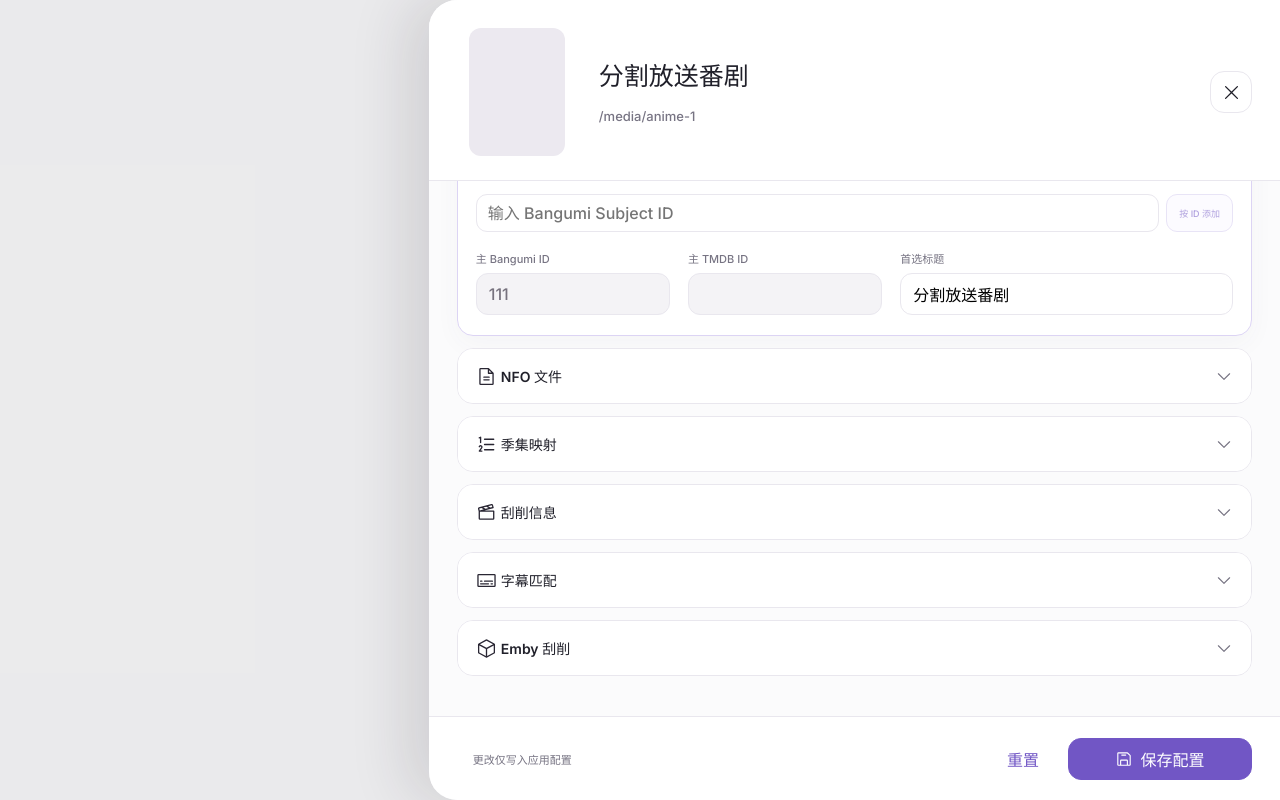
it: ScrapeDrawer segmented mapping › configures and runs the per-work daily refresh
(page scrolled)
Click the text "刮削信息". click: click(529, 512)
box: [501,502,557,522]
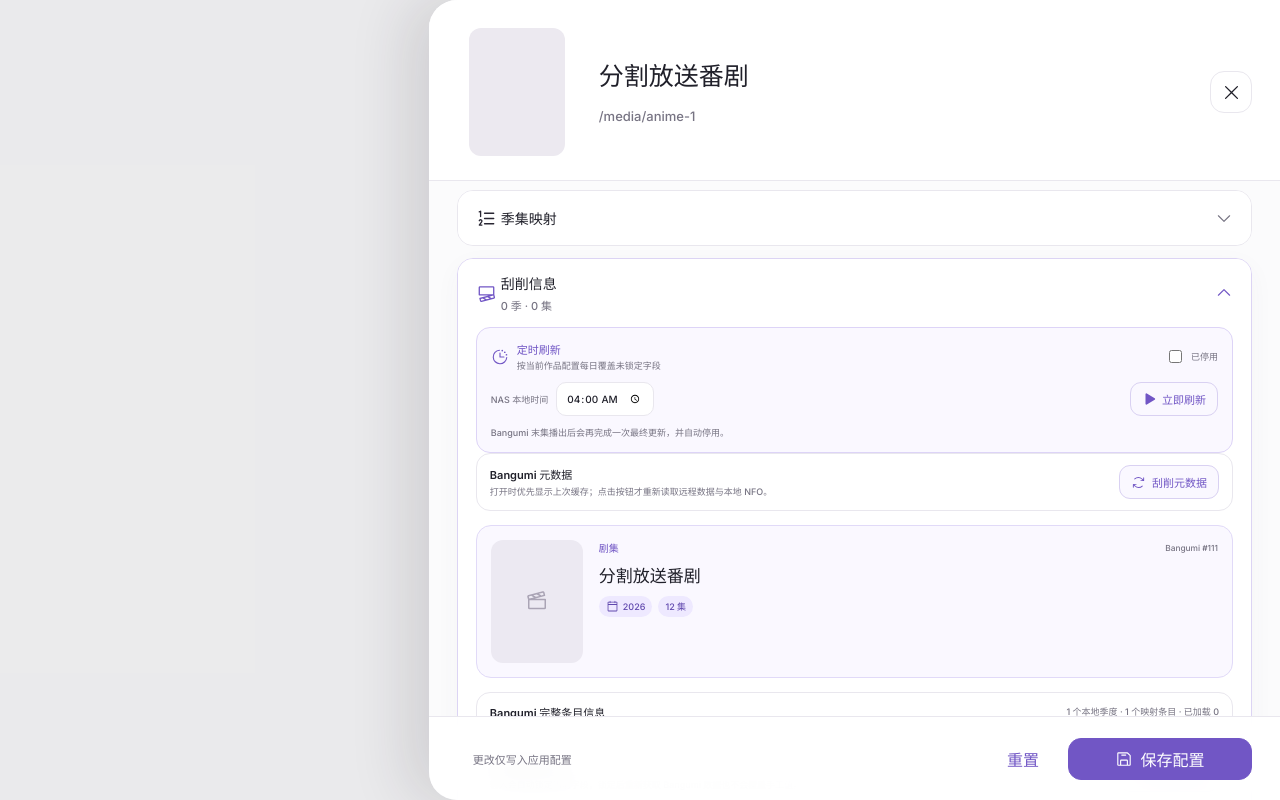
Click the checkbox. click: click(1176, 356)
box: [1169,350,1182,363]
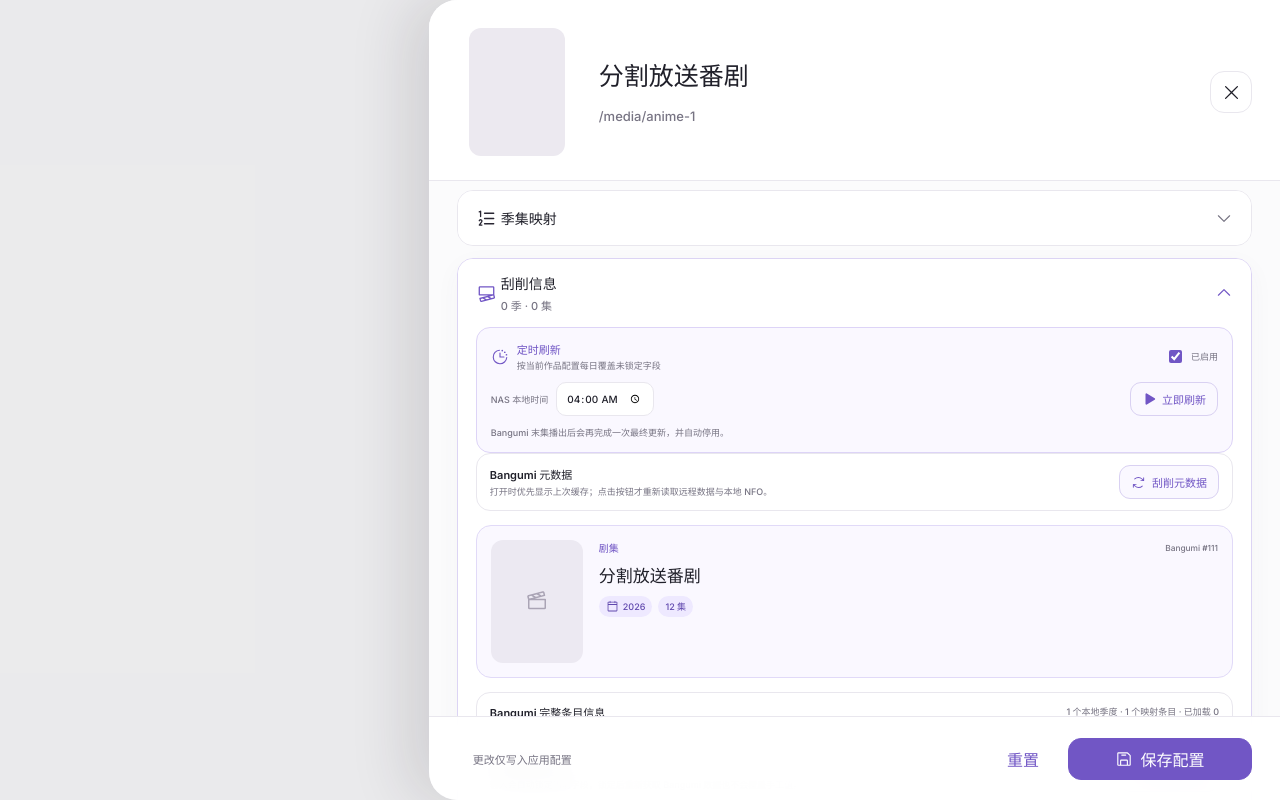
Replace the text in the time field showing "04:00" with "05:30". click: (605, 399)
box: [556,382,654,416]
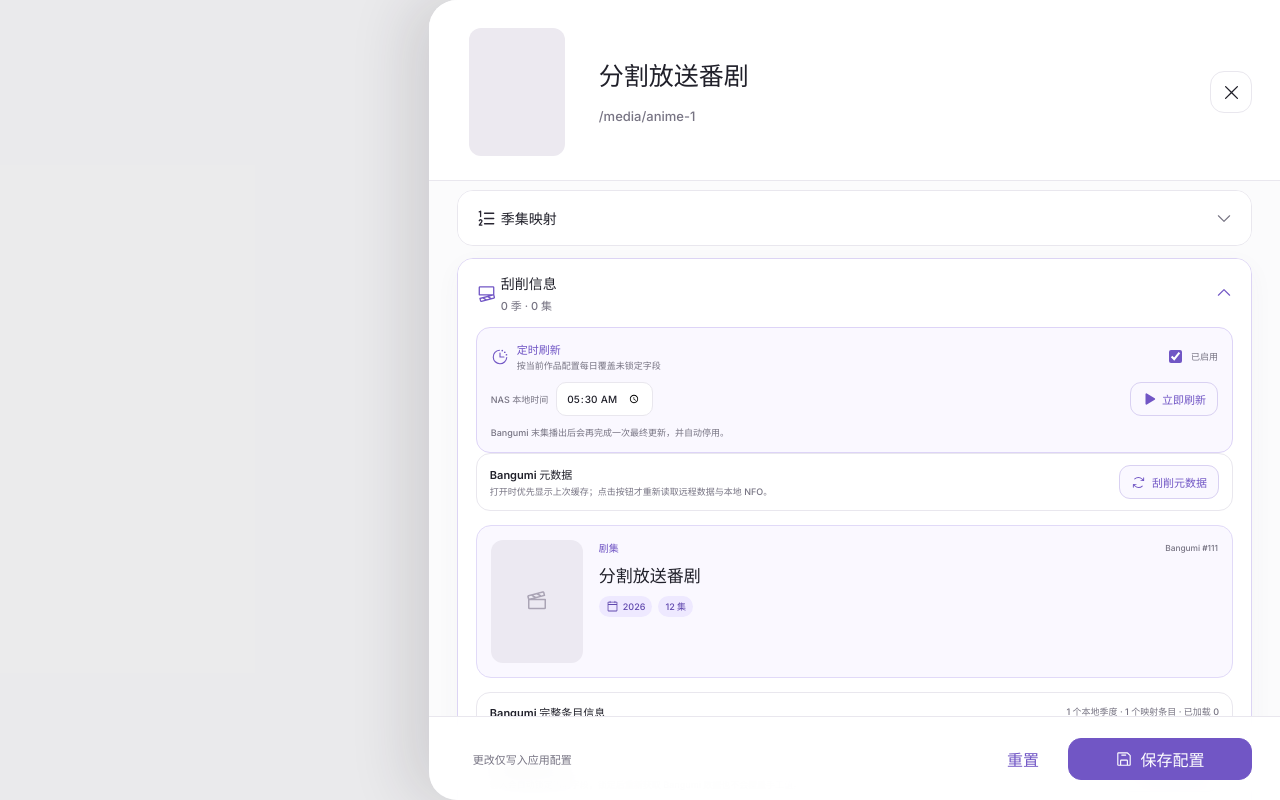
Click the button "保存配置". click: click(1160, 758)
box: [1068,738,1252,780]
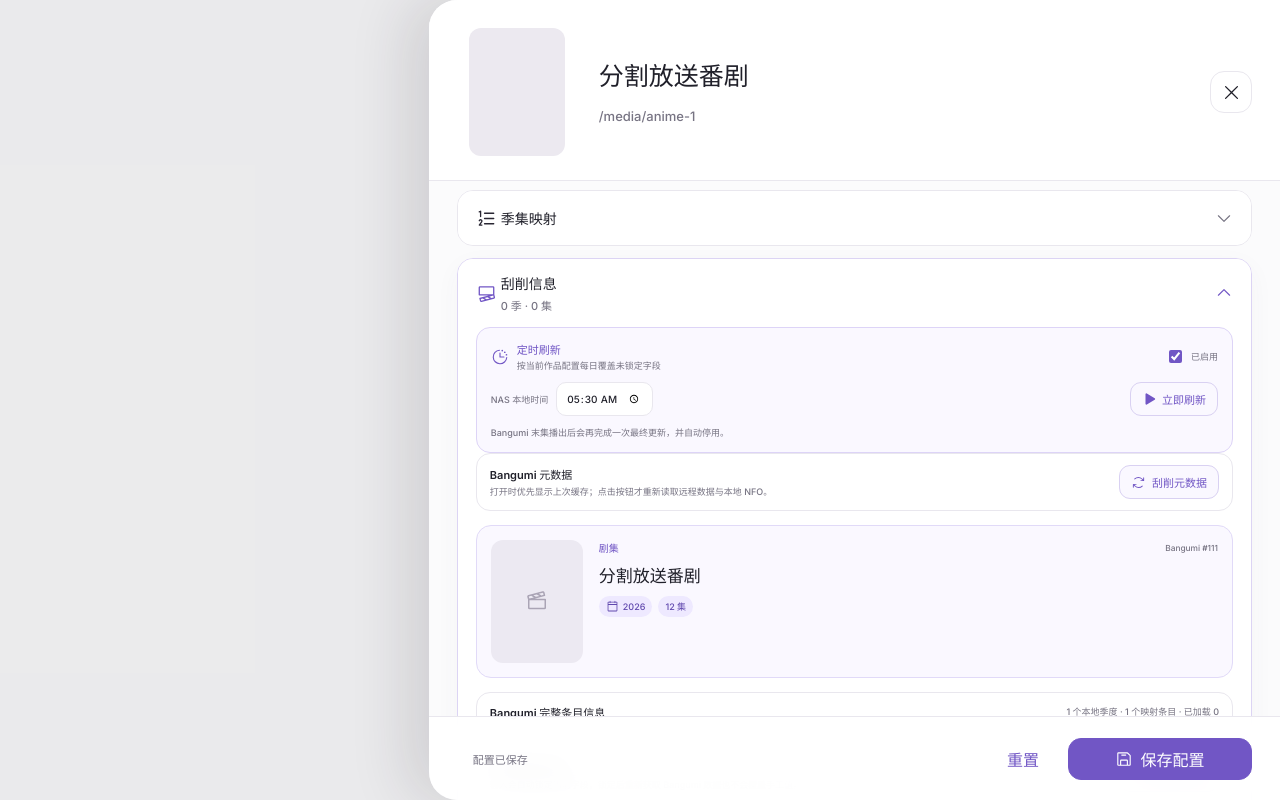
Click the button "立即刷新". click: click(1174, 399)
box: [1130,382,1218,416]
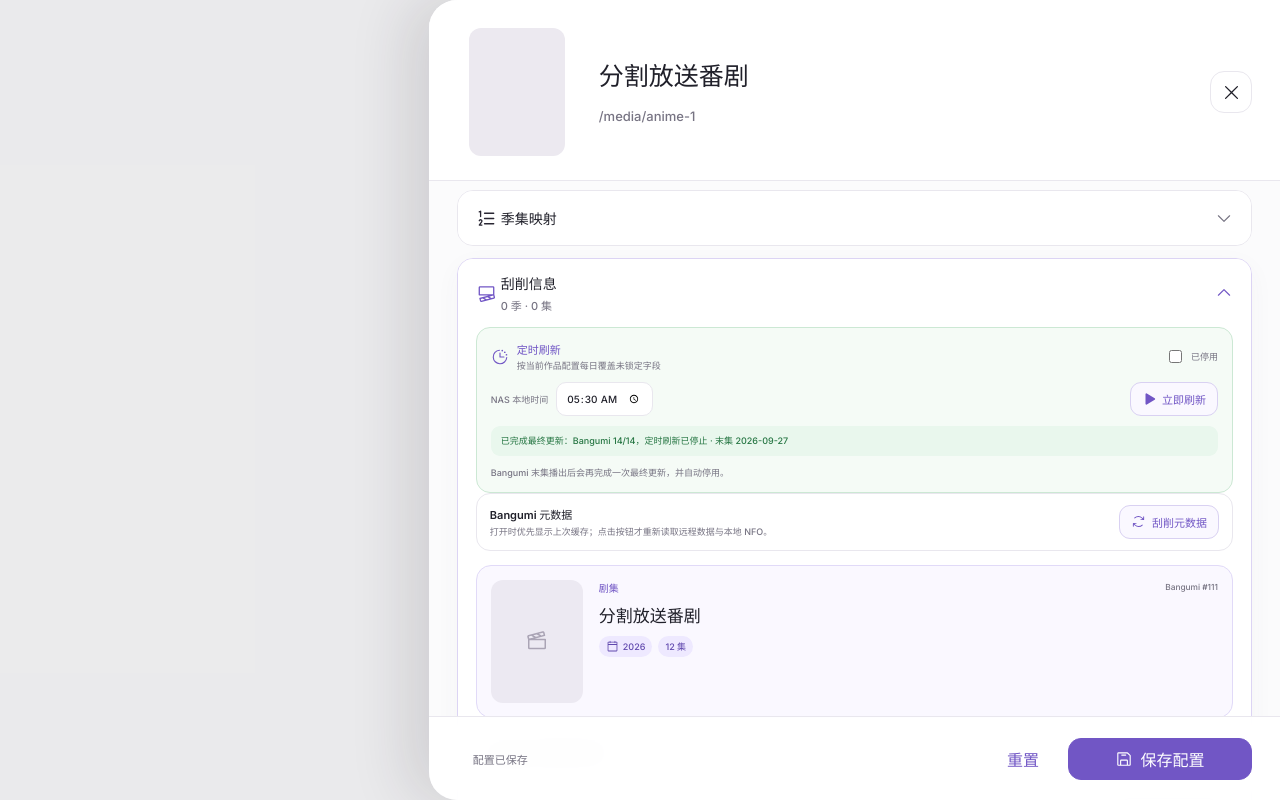
Check: the text "已完成最终更新：Bangumi 14/14，定时刷新已停止 · 末集 2026-09-27" is shown, box [491,426,1218,456]
